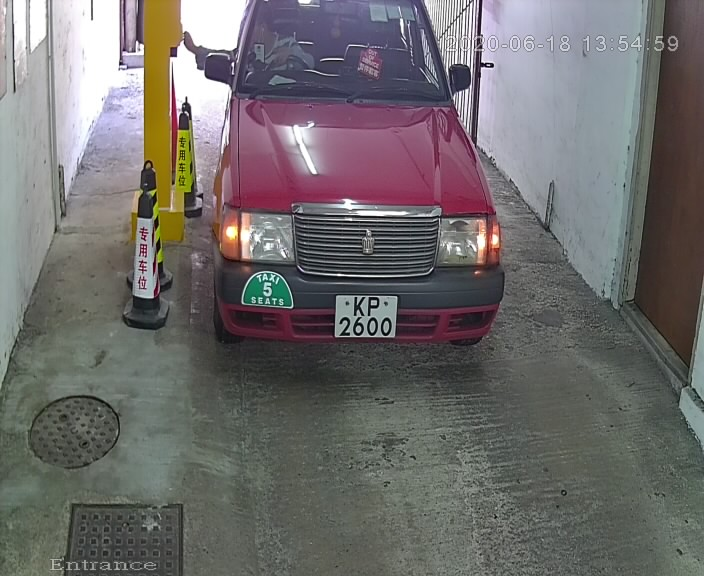taxi: (204, 2, 511, 366)
taxi_mark: (240, 268, 304, 318)
